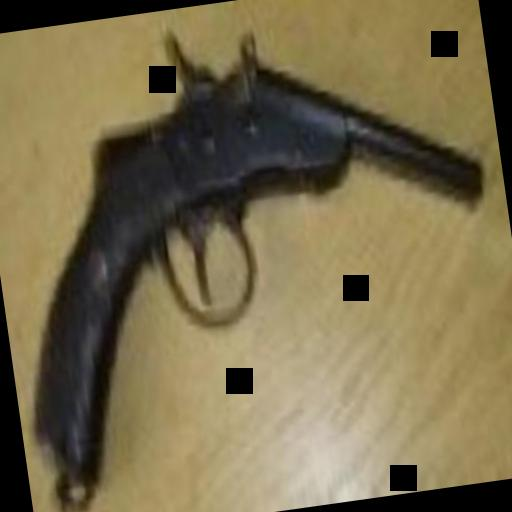Handgun: (0, 0, 512, 483)
